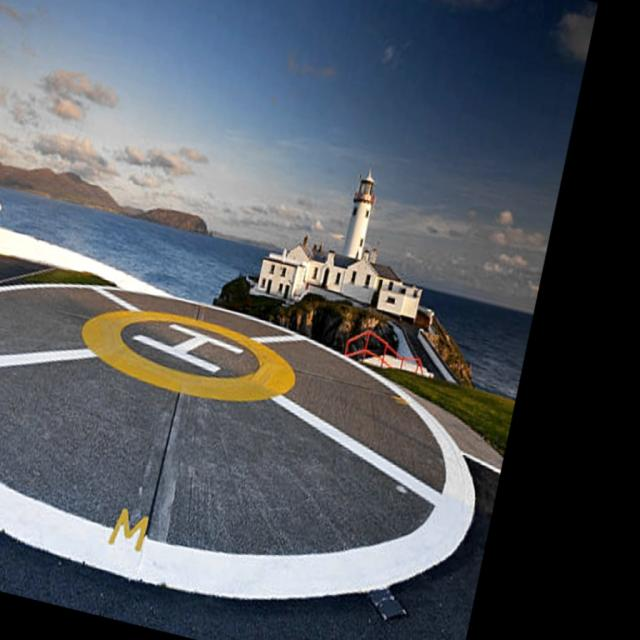helipad: (76, 302, 300, 404)
